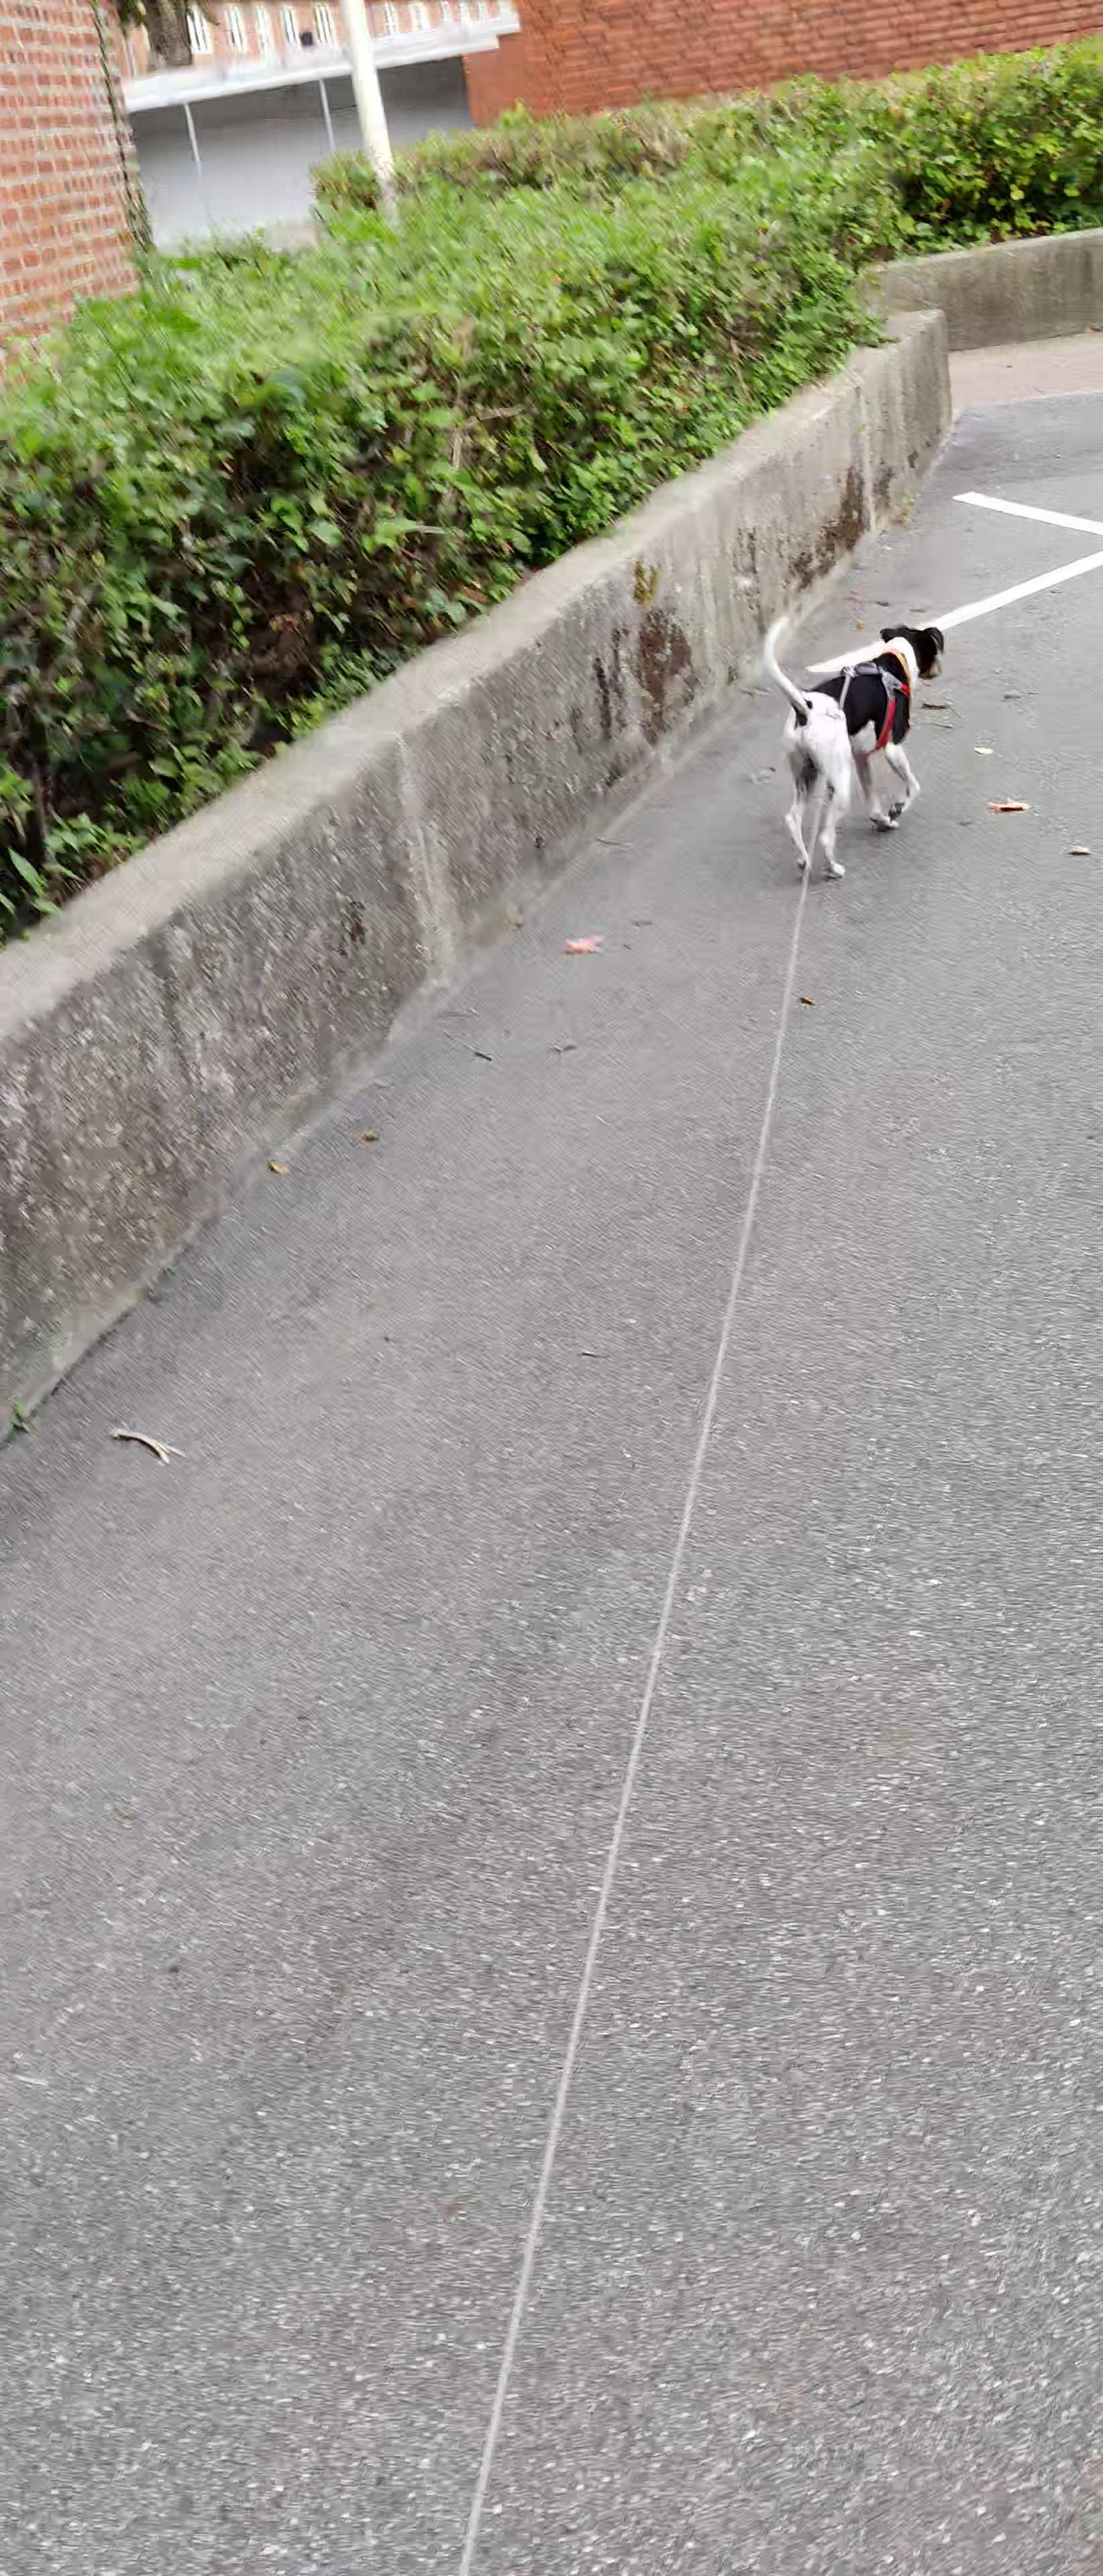Dog: (750, 605, 945, 879)
